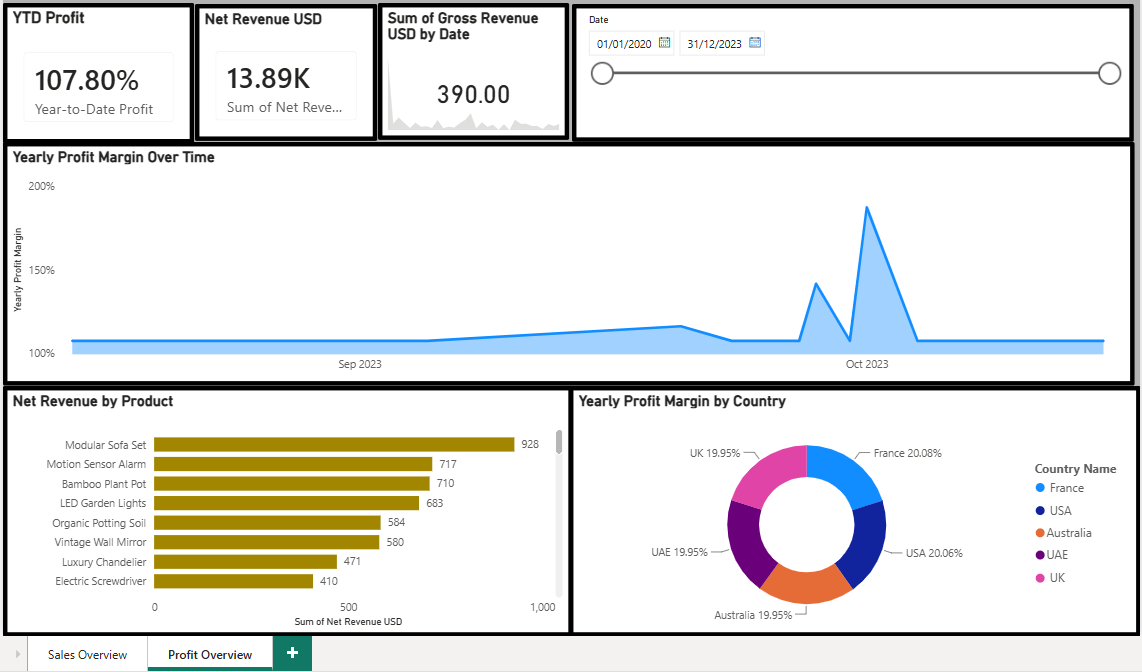

What the dashboard file says about the page in this screenshot:
{"tool":"powerbi","page":{"name":"Profit Overview","canvas":[1280,720],"ordinal":1},"visuals":[{"type":"clusteredBarChart","title":"Net Revenue by Product ","fields":{"Category":["Sales in USD.Product Name"],"Y":["Sum(Sales in USD.Net Revenue USD)"]},"box":[0,438.4,640.6,282.1],"z":0},{"type":"donutChart","title":"Yearly Profit Margin by Country","fields":{"Category":["Sales in USD.Country Name"],"Y":["Sales in USD.Yearly Profit Margin"]},"box":[637.1,438.4,642.9,282.1],"z":1},{"type":"areaChart","title":"Yearly Profit Margin Over Time","fields":{"Y":["Sales in USD.Yearly Profit Margin"],"Category":["CalendarTable.Date.Variation.Date Hierarchy.Year","CalendarTable.Date.Variation.Date Hierarchy.Quarter","CalendarTable.Date.Variation.Date Hierarchy.Month","CalendarTable.Date.Variation.Date Hierarchy.Day"]},"box":[0,164.6,1272.9,273.9],"z":2},{"type":"cardVisual","title":"YTD Profit","fields":{"Data":["Sales in USD.Year-to-Date Profit"]},"box":[0,8.2,215.1,157.5],"z":3},{"type":"cardVisual","title":"Net Revenue USD","fields":{"Data":["Sum(Sales in USD.Net Revenue USD)"]},"box":[216.3,9.4,205,154],"z":4},{"type":"kpi","fields":{"Indicator":["Sum(Sales in USD.Gross Revenue USD)"],"TrendLine":["CalendarTable.Date"]},"box":[422,8.2,215.1,154],"z":5},{"type":"slicer","fields":{"Values":["CalendarTable.Date"]},"box":[640.6,9.4,632.4,155.2],"z":6}]}

Visuals, with their boxes in screenshot pixels (x1, y1, x2, y2):
"Net Revenue by Product " clusteredBarChart: (0,383,564,631)
"Yearly Profit Margin by Country" donutChart: (561,383,1126,631)
"Yearly Profit Margin Over Time" areaChart: (0,142,1120,383)
"YTD Profit" cardVisual: (0,4,189,143)
"Net Revenue USD" cardVisual: (190,5,371,141)
kpi - Sum(Sales in USD.Gross Revenue USD) x CalendarTable.Date: (371,4,561,140)
slicer - CalendarTable.Date: (564,5,1120,142)
